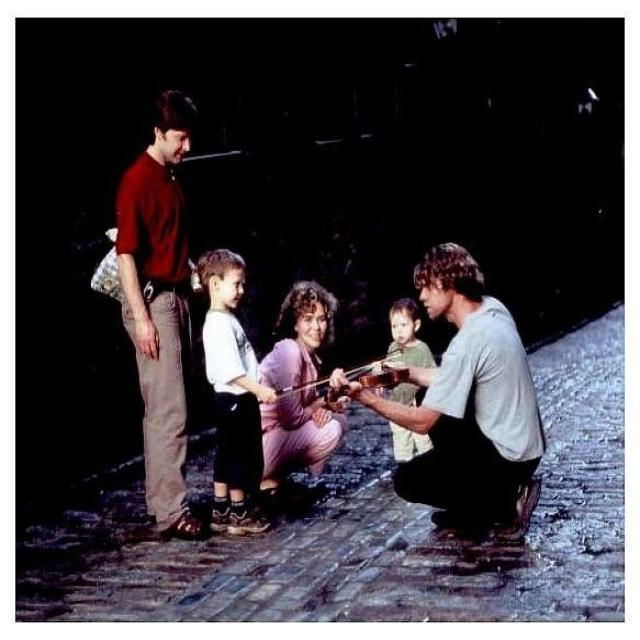violin: (329, 356, 413, 410)
